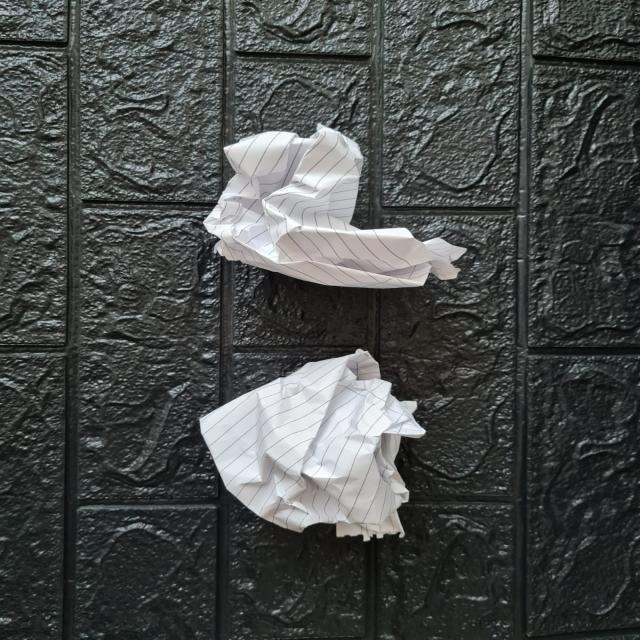Paper: (204, 126, 468, 284), (205, 344, 418, 539)
